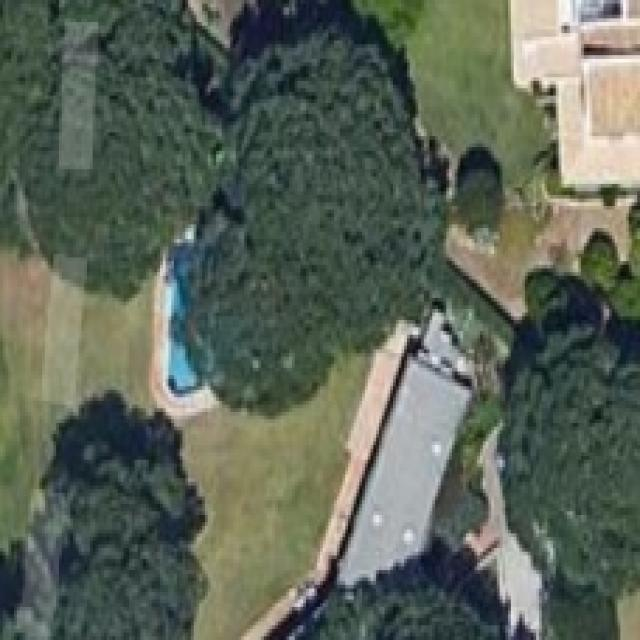pool: (161, 218, 212, 406)
